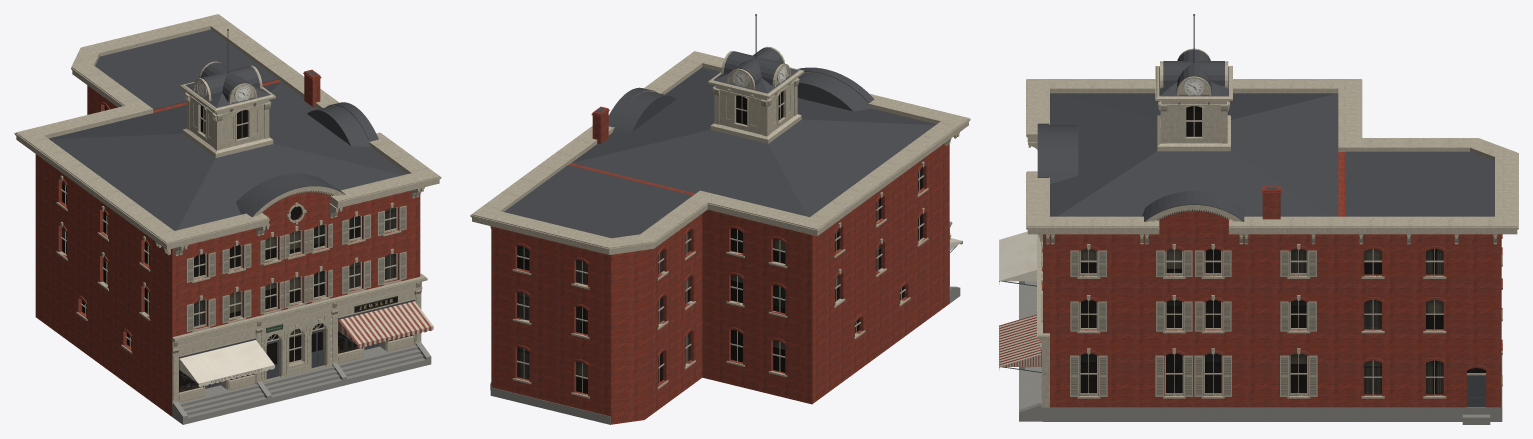
The model's file is rea-building.glb.
3 renders of one model, left to right at view 1: azimuth 30°, elevation 25°; view 2: azimuth 150°, elevation 25°; view 3: azimuth 270°, elevation 25°, orthographic. The views are drawn at different scales.
Parts seen in each view (by area): view 1: ReaBuilding; view 2: ReaBuilding; view 3: ReaBuilding.
Boxes of the visible parts, box(x1,y1,x2,y2) form: ReaBuilding: box(14, 14, 441, 424); ReaBuilding: box(470, 14, 970, 424); ReaBuilding: box(999, 14, 1518, 424).
Bounding box in the file's own units: 17.66 × 18.9 × 26.14.
8 materials, 6 textured.
